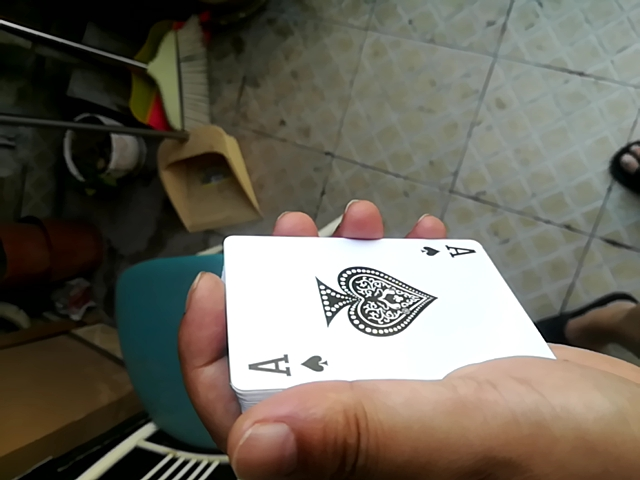ht a: (224, 214, 574, 392)
